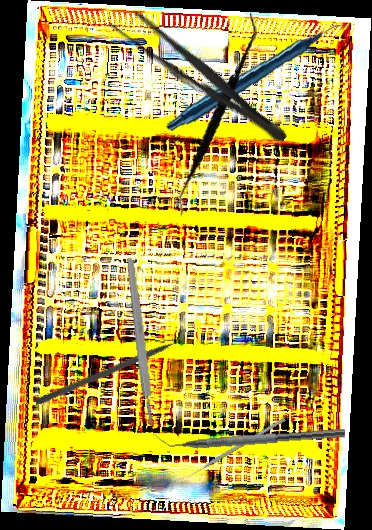Chopper: (152, 415, 346, 455)
Dressing Forceps: (105, 1, 295, 153)
Handpiece: (166, 10, 352, 146)
Pusher: (34, 331, 197, 408), (183, 417, 286, 481)
Scalpel Handle: (125, 257, 156, 427)
Spatula Surgical: (147, 12, 285, 218)
